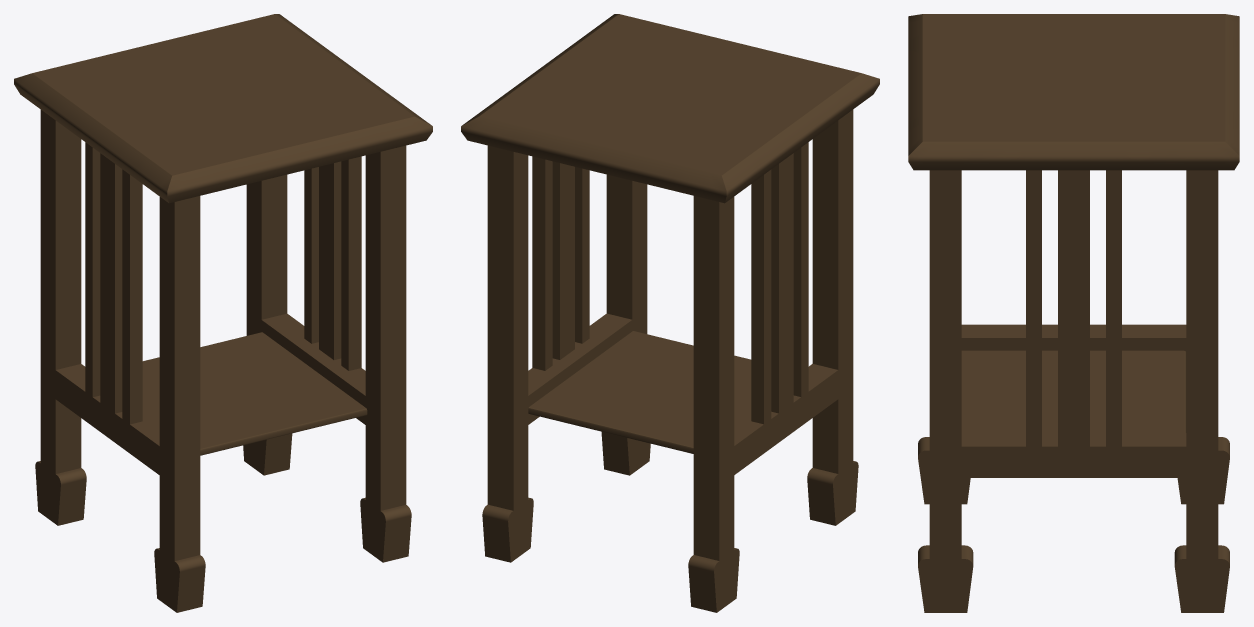
File: flower-stand.fbx
The picture shows the model from 3 angles, left to right: view 1: azimuth 30°, elevation 25°; view 2: azimuth 150°, elevation 25°; view 3: azimuth 270°, elevation 25°; orthographic projection. The views are drawn at different scales.
Visible parts, largest first — view 1: pCube32; view 2: pCube32; view 3: pCube32.
Part boxes in pixels (x1,y1,x2,y2): pCube32: (14,14,432,612); pCube32: (461,14,879,612); pCube32: (908,14,1239,612).
Size of the model in its own units: 56.73 by 89.64 by 56.73.
